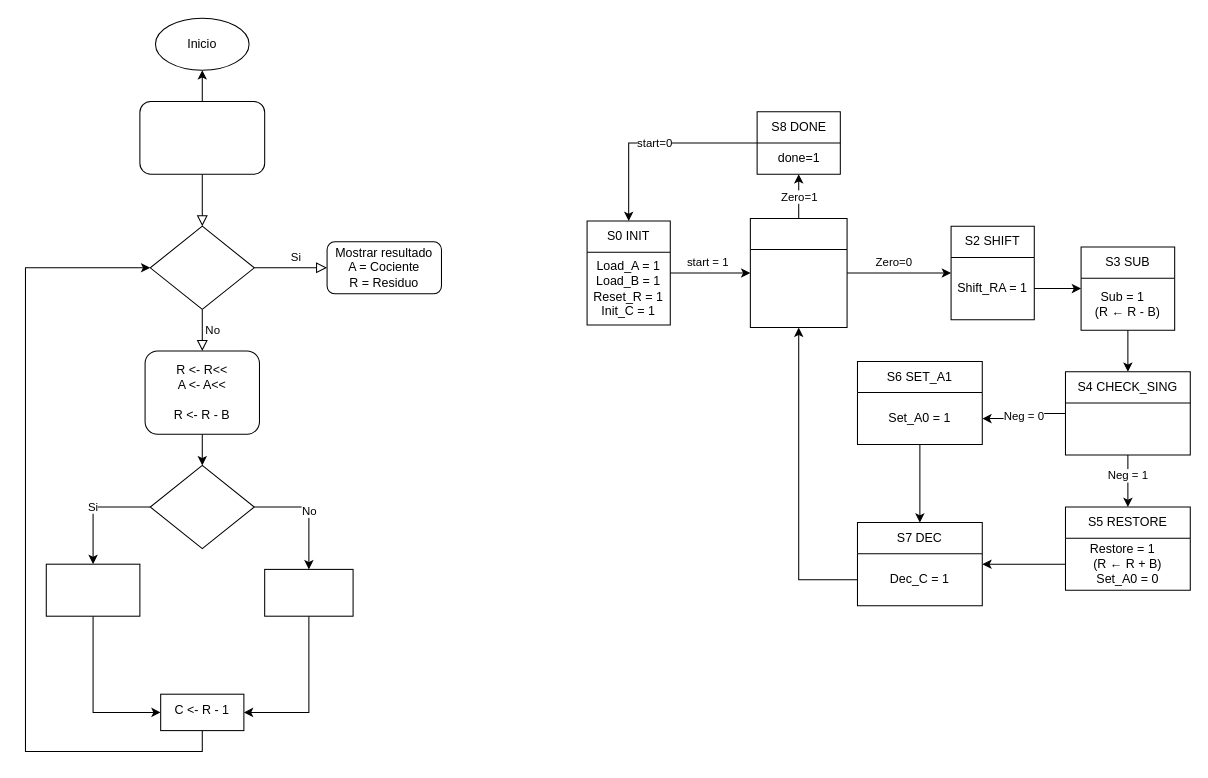
The diagram is 1208 pixels wide and 778 high, and some of its shapes have lost their labels. Each missing label, with the centre of its shape:
"A <- A_in B <- B_in R <- 0 C <- n" belongs at pixel 202 137.
"Q[0] <- 1" belongs at pixel 308 592.
"R <- R - B Q[0] <- 0" belongs at pixel 92 589.
"S1 CHECK_C" belongs at pixel 798 272.
"¿C==0?" belongs at pixel 201 267.
"¿R < 0?" belongs at pixel 201 506.
